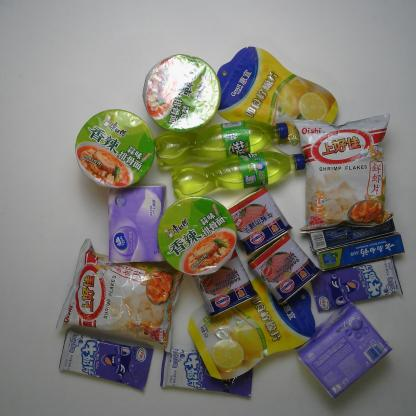Candy: (56, 326, 154, 390), (309, 256, 403, 312), (158, 347, 254, 398)
Canned Food: (248, 232, 320, 305), (225, 184, 292, 254), (190, 250, 258, 318)
Dried Fruit: (206, 46, 340, 151), (188, 278, 314, 380)
Drink: (172, 150, 308, 202), (155, 118, 290, 170)
Instant Noodles: (74, 109, 155, 191), (157, 196, 237, 277), (141, 53, 221, 133)
Personal Hygiene: (317, 232, 405, 270), (309, 214, 397, 251)
Puffed Food: (54, 236, 185, 351), (294, 114, 394, 233)
Tissue: (294, 302, 392, 398), (107, 184, 167, 266)
